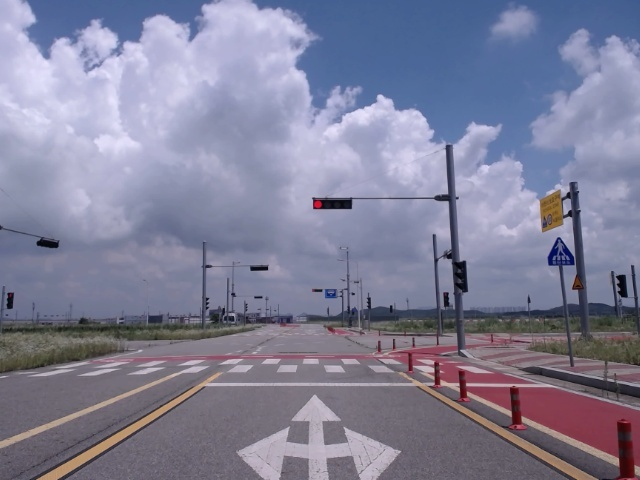red_4: (313, 199, 352, 209)
